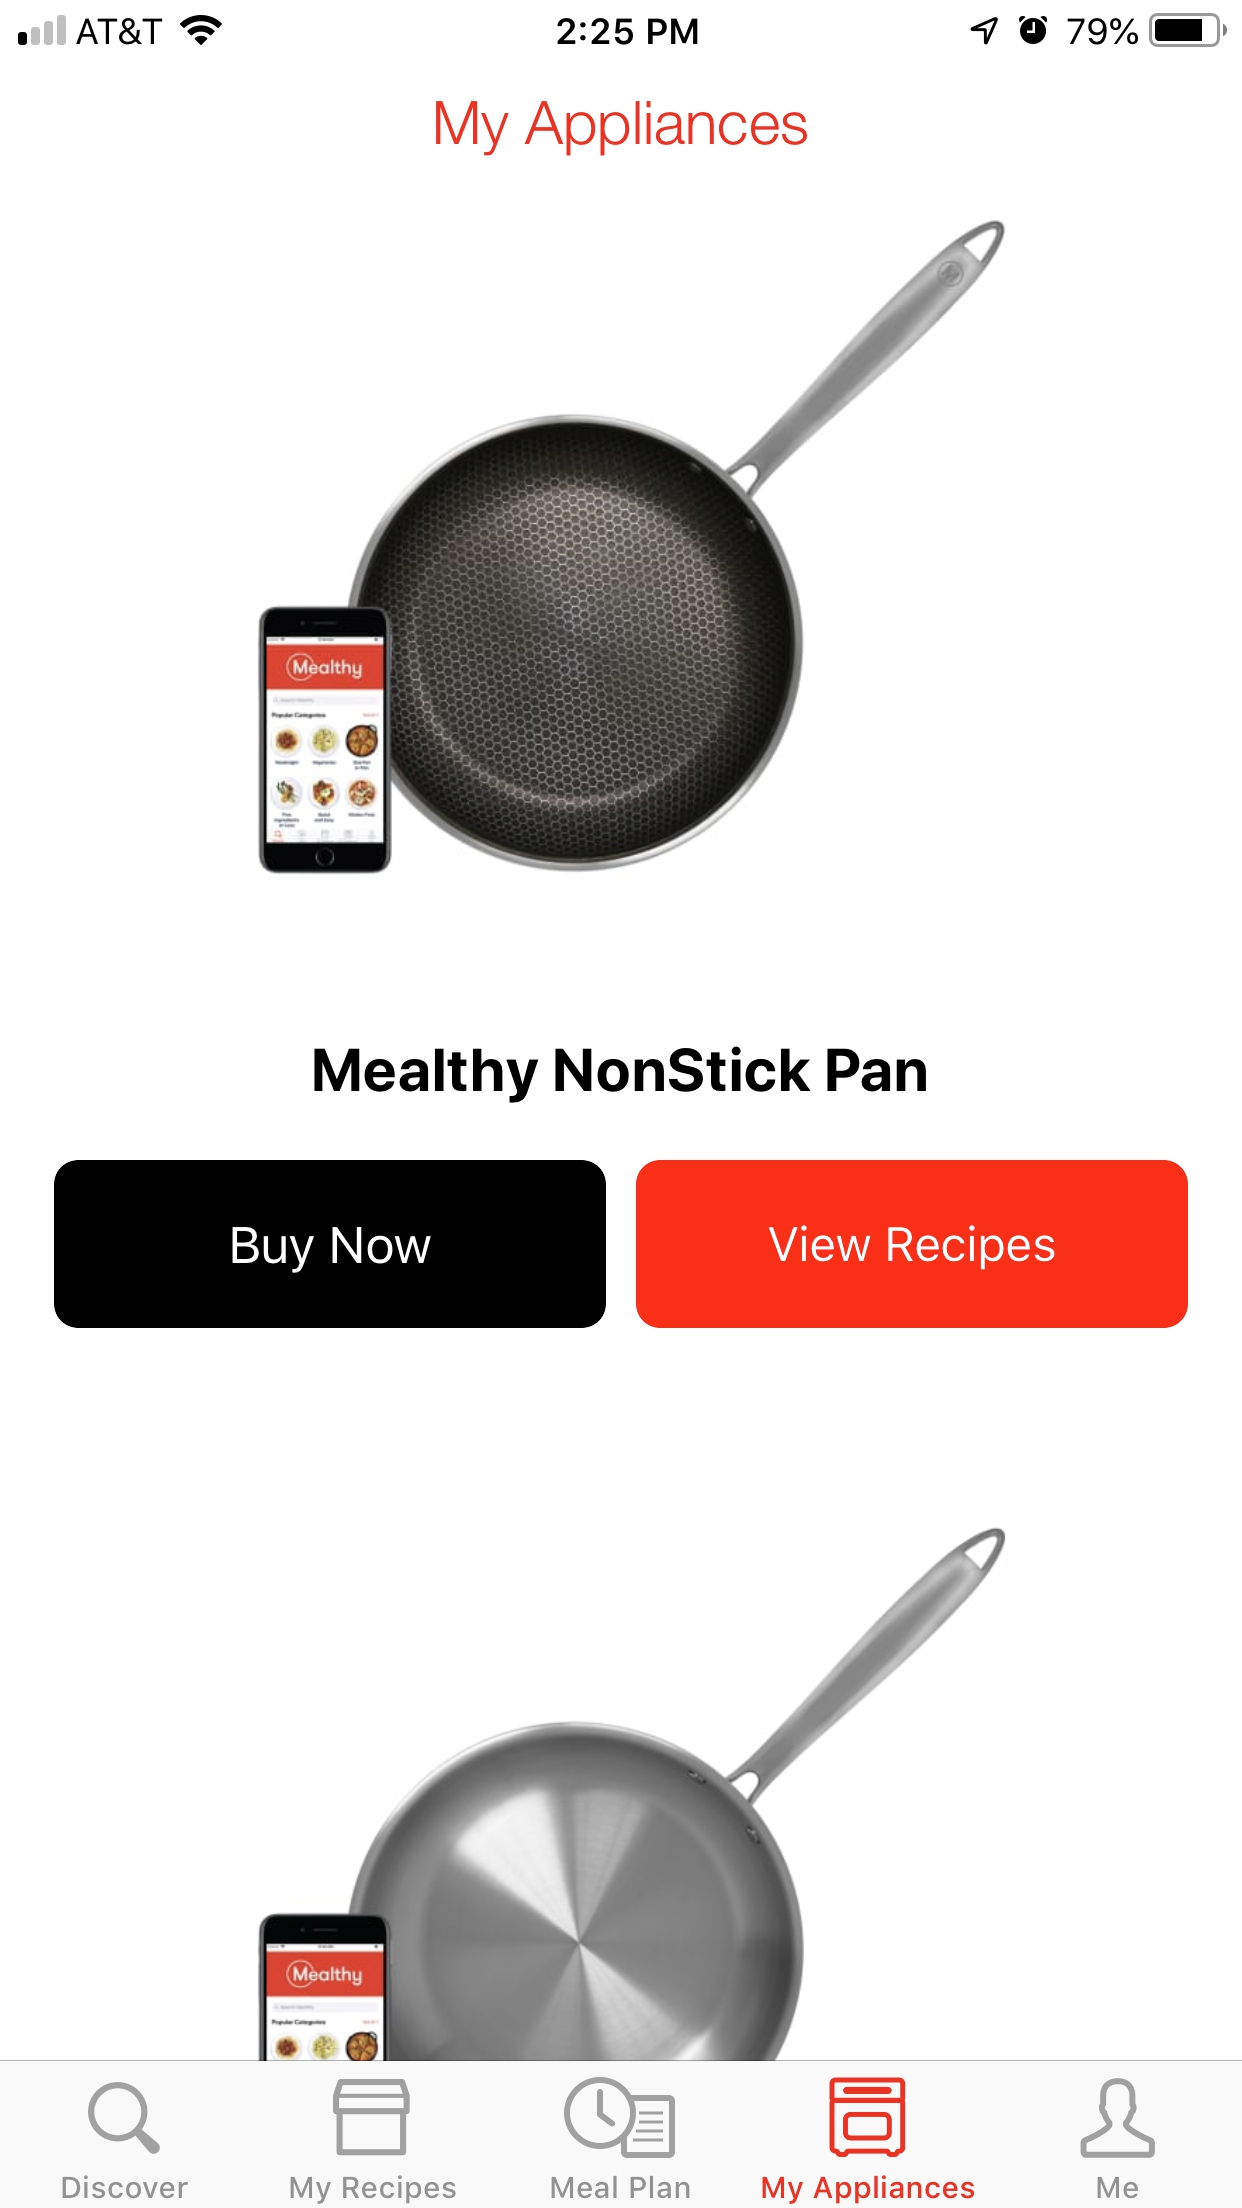Icon: (564, 2078, 676, 2159), (1080, 2078, 1156, 2156), (89, 2082, 162, 2155)
Image: (259, 220, 1007, 877), (258, 1527, 1005, 2059), (830, 2076, 905, 2156), (334, 2079, 411, 2156)
Text: (314, 1046, 927, 1106), (435, 102, 808, 158), (761, 2175, 974, 2203), (290, 2175, 456, 2205), (550, 2175, 692, 2199), (62, 2175, 190, 2199), (1096, 2176, 1137, 2197)
TextButton: (635, 1160, 1189, 1328), (55, 1160, 607, 1328)
UpperTaskBar: (2, 2, 1242, 49)
